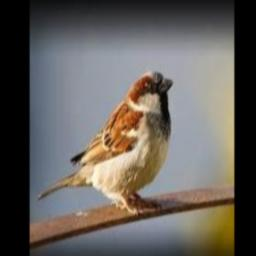Sparrow: (38, 71, 173, 215)
